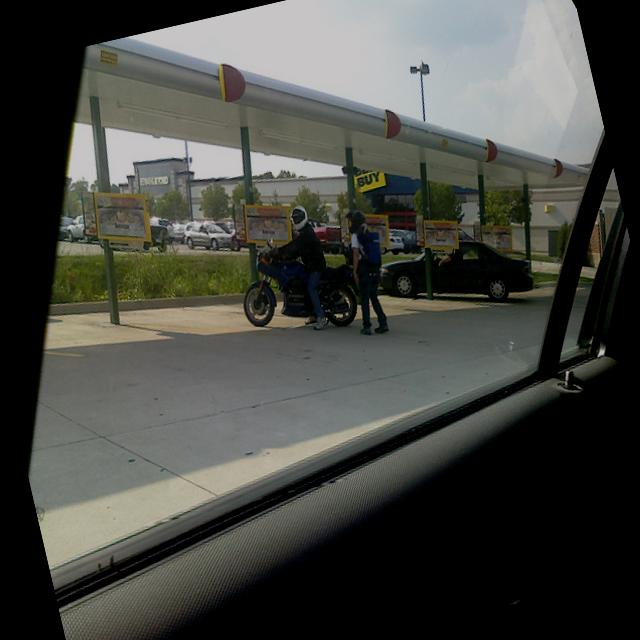Vehicle: (225, 214, 366, 348), (372, 225, 538, 327), (181, 212, 233, 257), (137, 216, 172, 256), (148, 212, 178, 248), (61, 212, 90, 248), (376, 229, 406, 258), (51, 213, 76, 240), (399, 230, 422, 256)
